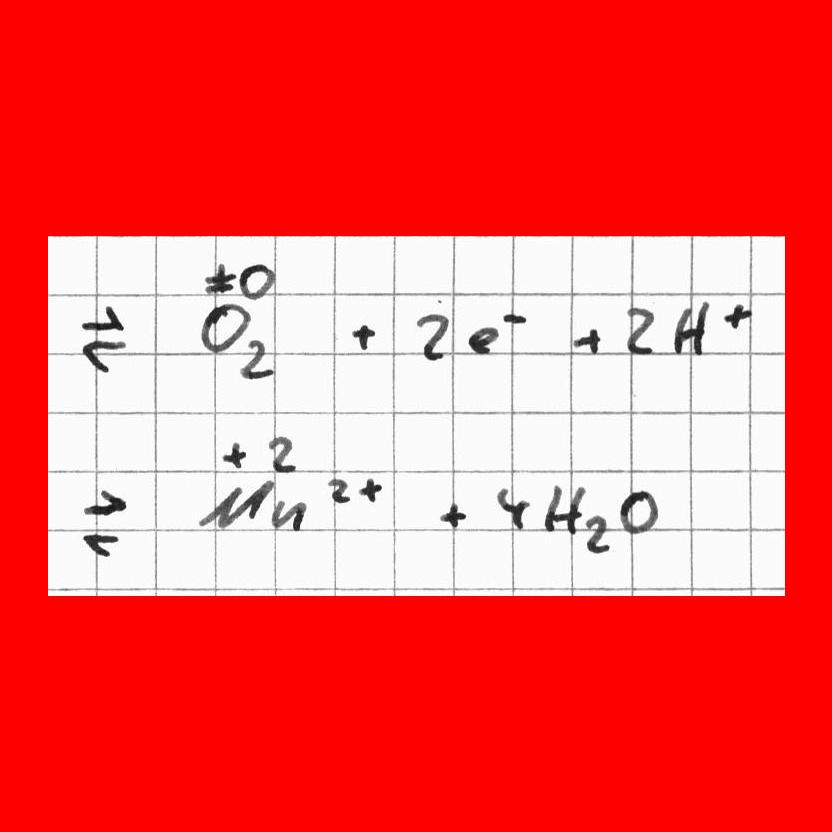Char: (80, 488, 129, 562), (81, 301, 127, 372), (200, 482, 265, 530), (198, 301, 251, 355), (671, 300, 712, 358), (415, 305, 452, 367), (616, 487, 659, 535), (622, 301, 659, 356), (544, 482, 581, 535), (495, 485, 532, 533), (237, 259, 276, 300), (268, 495, 309, 534), (239, 337, 275, 381), (265, 432, 296, 473), (201, 263, 236, 297), (583, 513, 610, 554), (466, 324, 498, 357), (438, 499, 468, 533), (571, 322, 600, 357), (723, 300, 753, 332), (349, 320, 377, 353), (221, 439, 248, 473), (356, 475, 384, 505), (324, 475, 351, 505), (499, 310, 530, 328)
